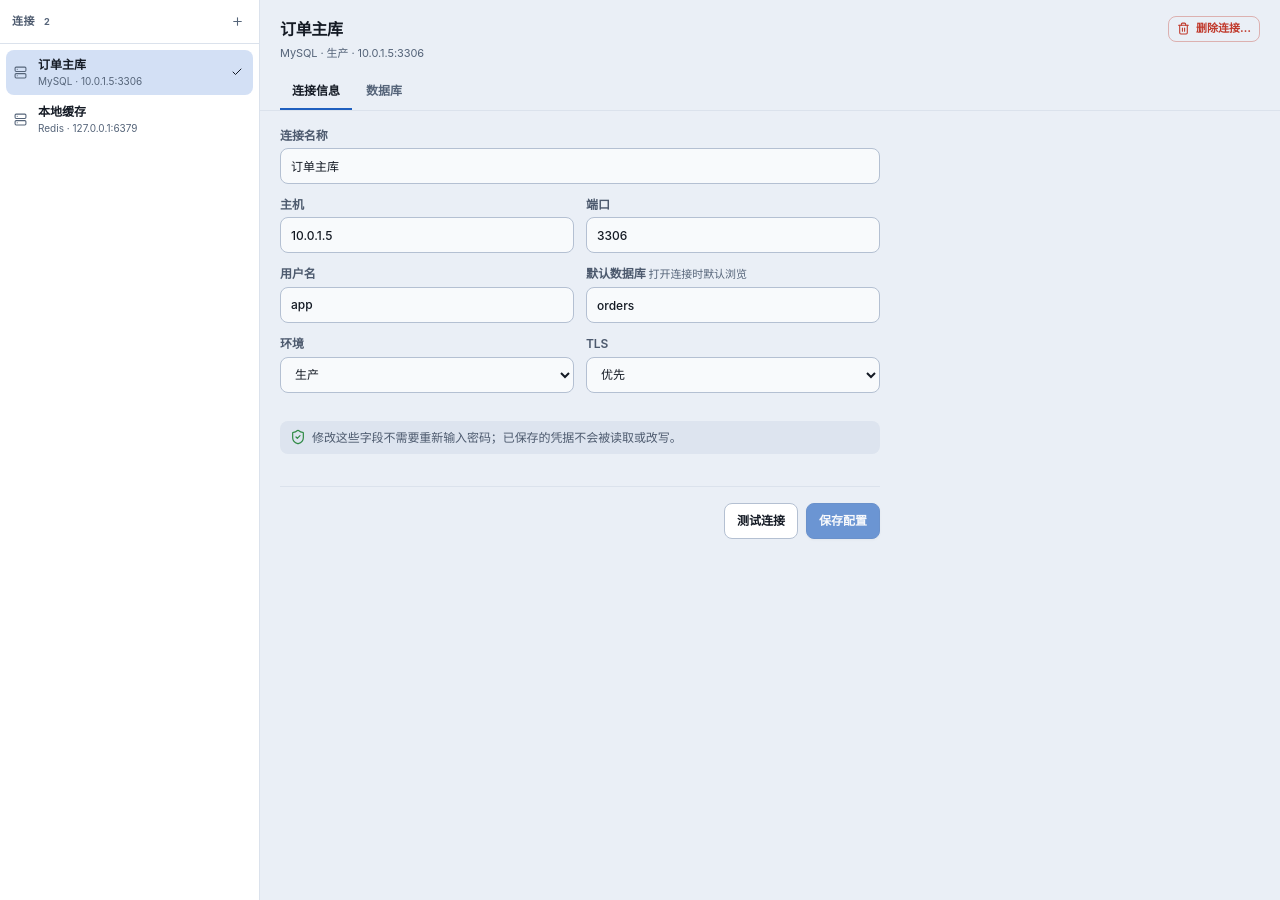
ConnectionManager › re-tests a saved connection using the stored credential
What coordinates should you click on to do the following:
click the button "测试连接"
I would click on:
 (761, 521)
Its box is 724,503 -> 798,539.
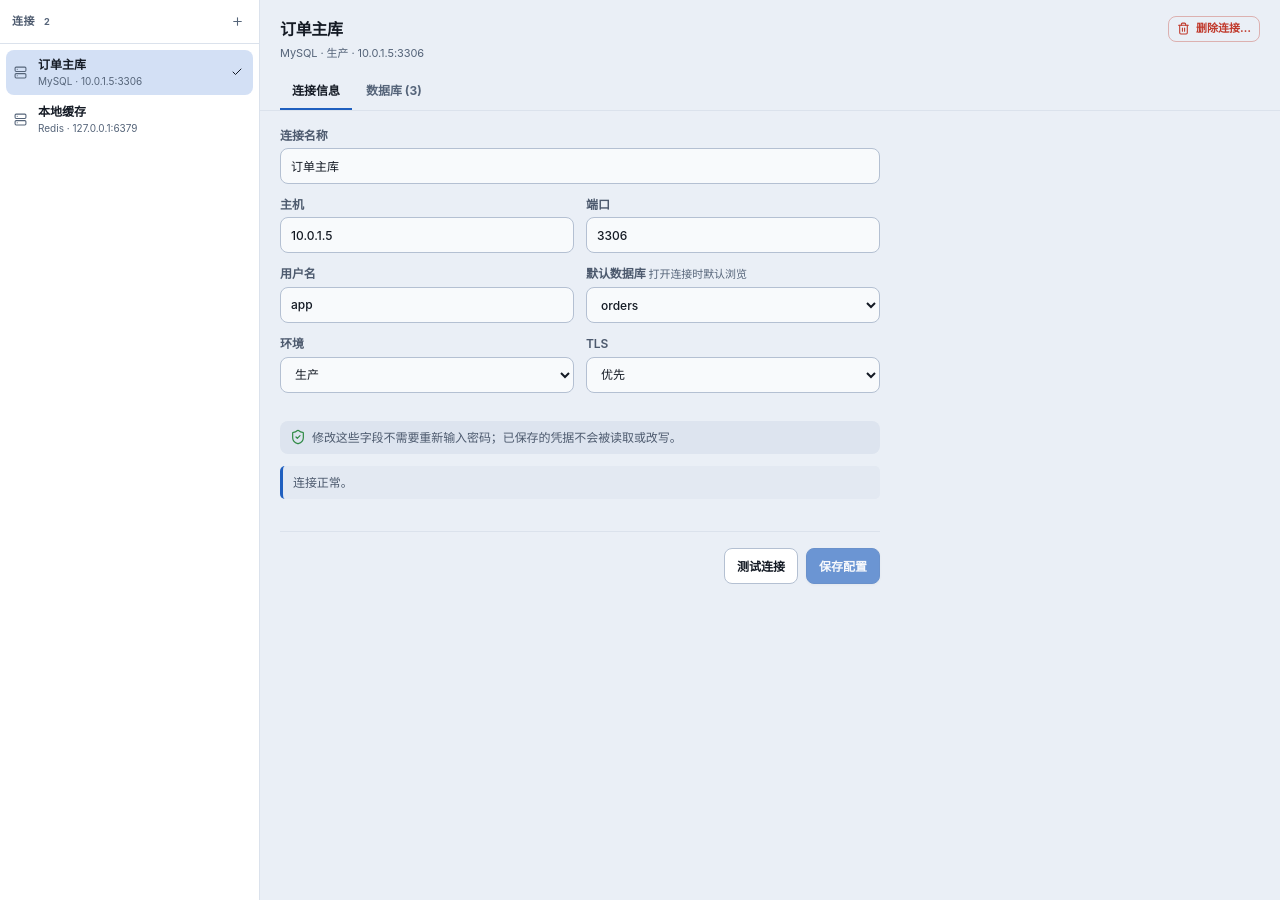
Expected: the message reads "连接正常。", 293,475 -> 353,490
